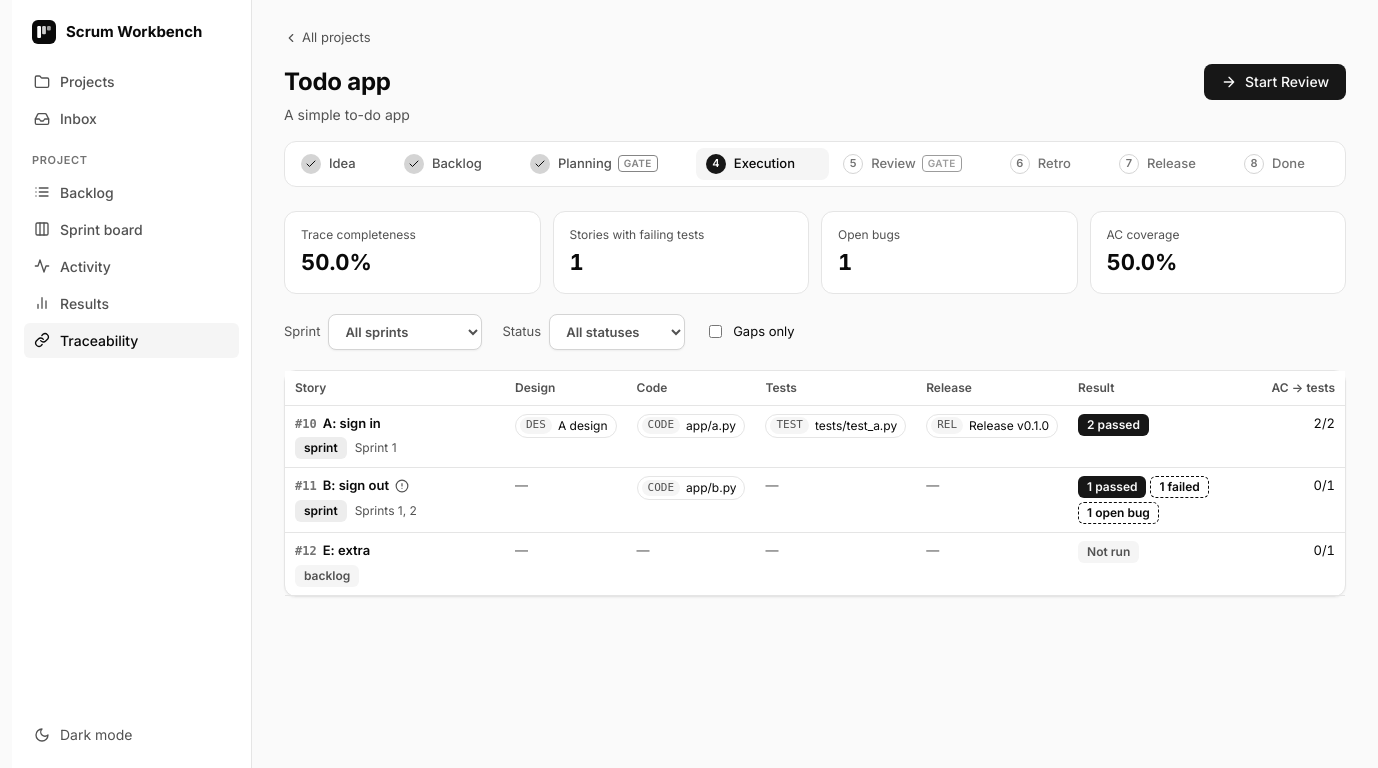
Scenario: TraceabilityPage › writes the filters to the URL
Expected: the text "A: sign in" is shown, [323,414,381,433]
Click the checkbox labelled "Gaps only" at (716, 332), box [709,325,722,338]
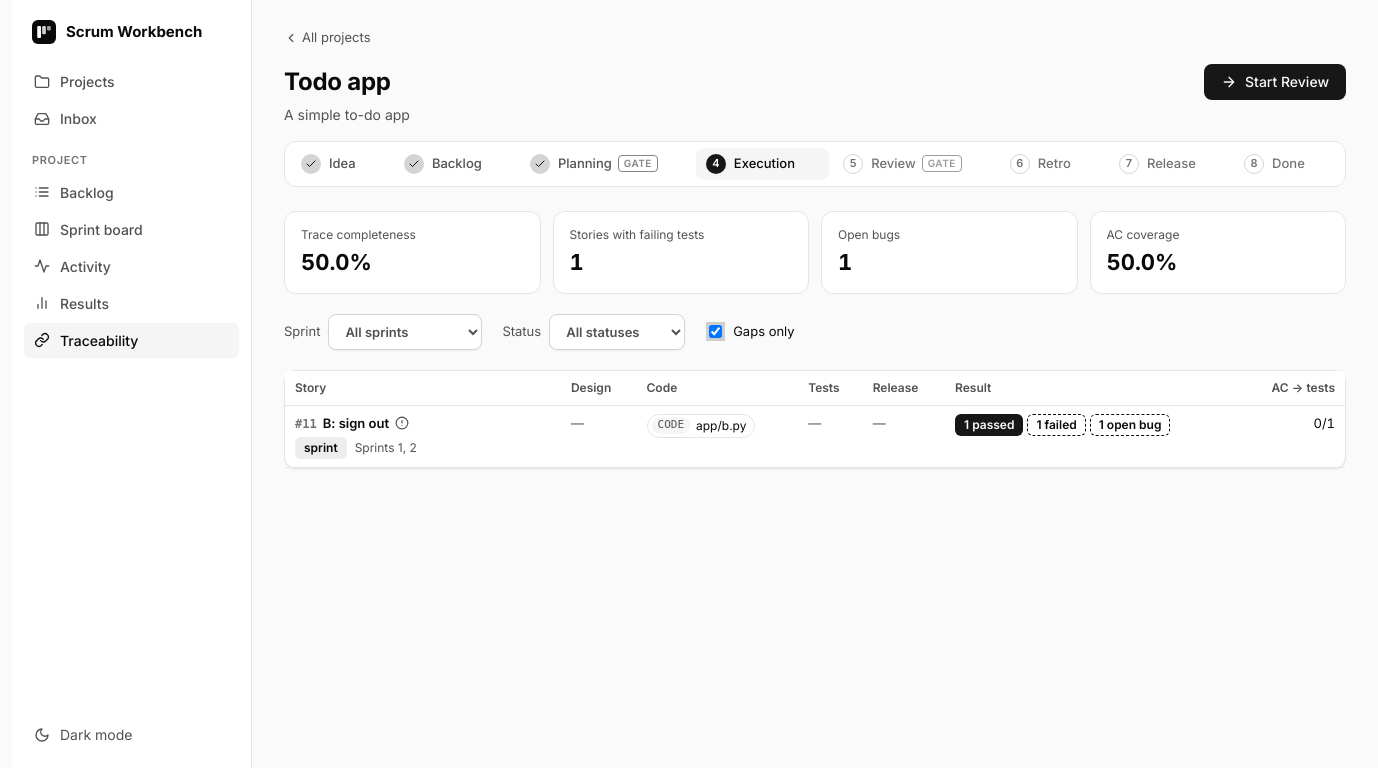
Click the checkbox labelled "Gaps only" at (716, 332), box [709,325,722,338]
(page scrolled)
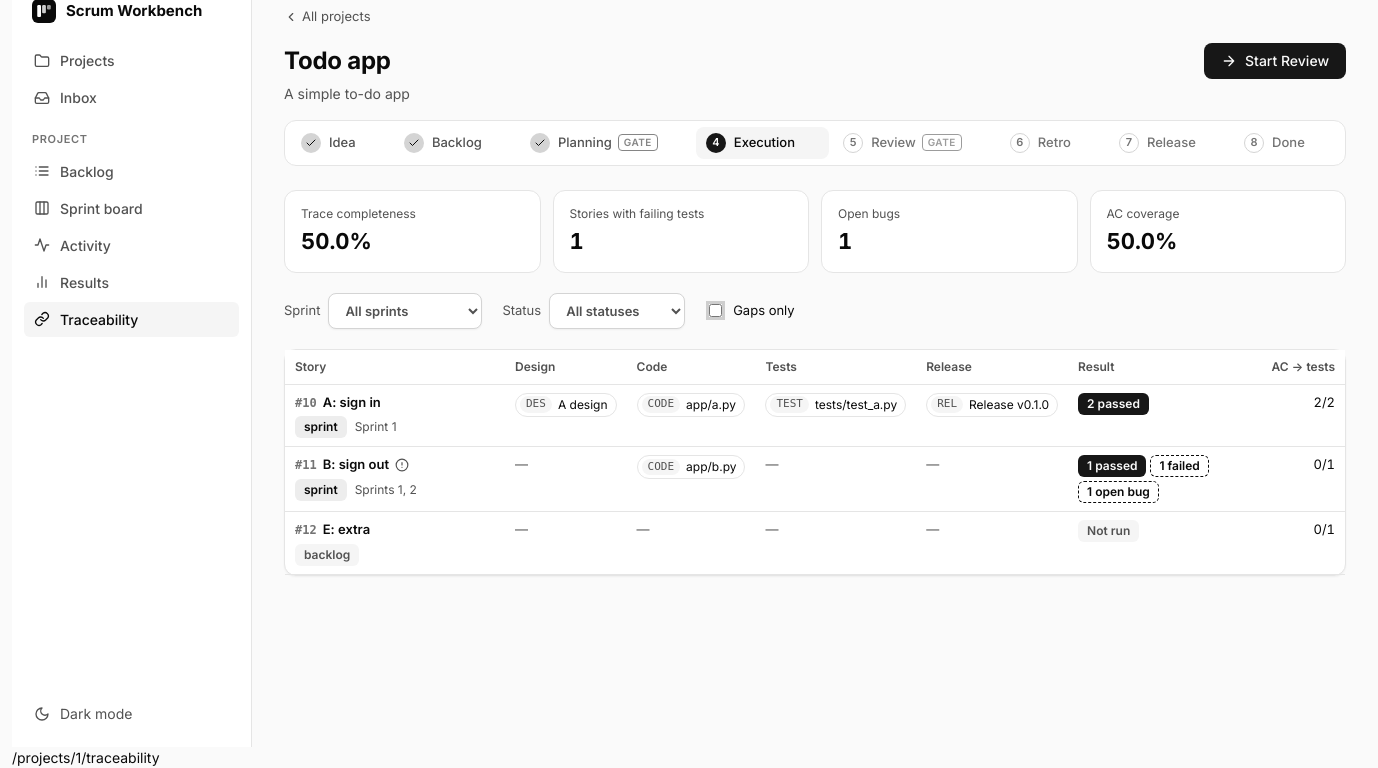
Expected: the text named "url" reads "/projects/1/traceability", [12,749,160,766]
